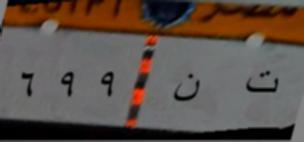6: (11, 64, 45, 104)
9: (93, 67, 126, 106), (58, 66, 78, 104)
noon: (165, 67, 206, 111)
taa: (241, 67, 284, 100)
